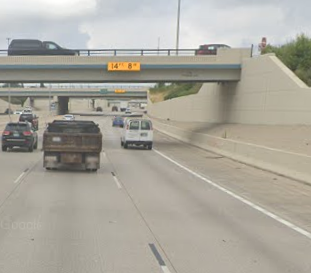1: (110, 61, 114, 70)
4: (112, 61, 119, 70)
8: (126, 60, 134, 70)
overheadsign: (106, 60, 142, 72)
